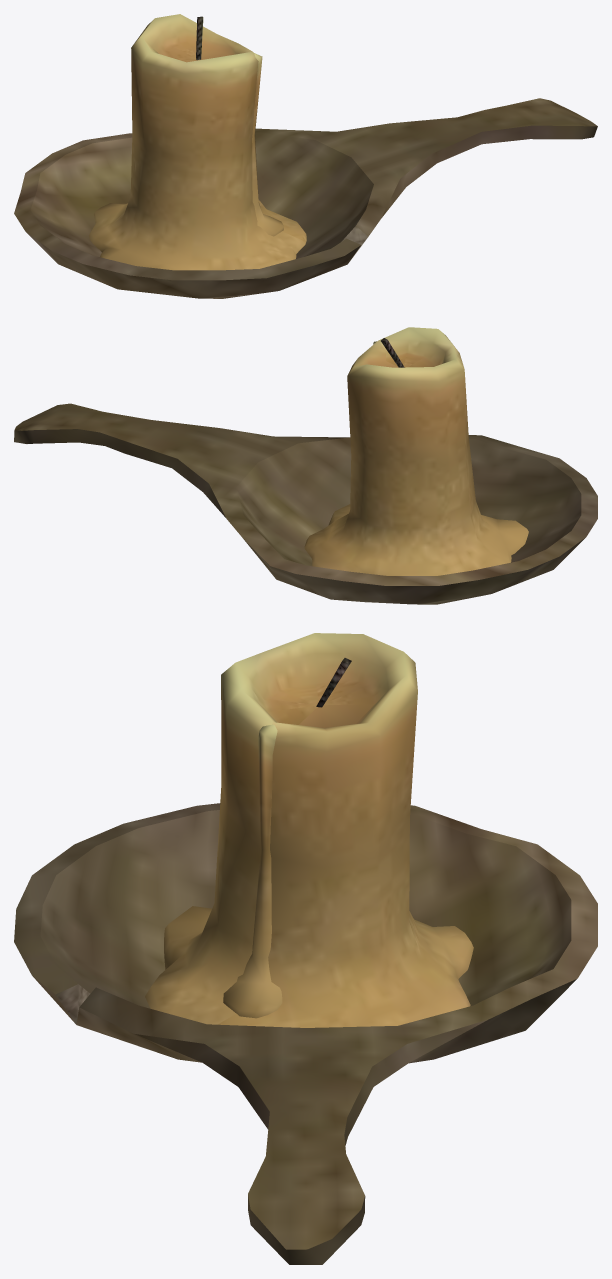
File: GEN_PRO_Candle_Single_Bowl_02A_LOD0-transformed.glb
3 renders of one model, top to bottom at view 1: azimuth 30°, elevation 25°; view 2: azimuth 150°, elevation 25°; view 3: azimuth 270°, elevation 25°, orthographic. The views are drawn at different scales.
Parts seen in each view (by area): view 1: default; view 2: default; view 3: default.
Part boxes in pixels (x1,y1,x2,y2): default: (14, 14, 597, 298); default: (14, 327, 597, 604); default: (14, 633, 597, 1264).
Size of the model in its own units: 0.2511 by 0.1038 by 0.1451.
2 materials, 2 textured.
